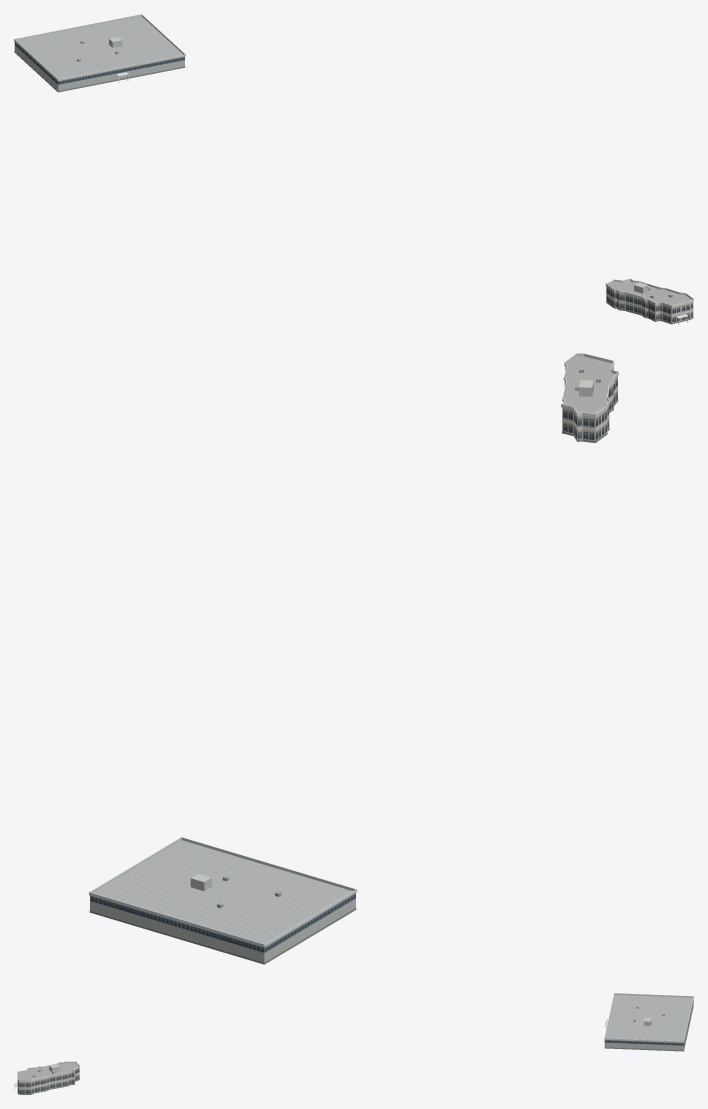
3 renders of one model, top to bottom at view 1: azimuth 30°, elevation 25°; view 2: azimuth 150°, elevation 25°; view 3: azimuth 270°, elevation 25°, orthographic. The views are drawn at different scales.
Visible parts, largest first — view 1: 1114843839, scan-096; view 2: 1114843839, scan-096; view 3: 1114843839, scan-096.
Part boxes in pixels (x1,y1,x2,y2): 1114843839: [14, 14, 185, 92]; scan-096: [605, 278, 693, 324]; 1114843839: [89, 837, 357, 964]; scan-096: [561, 353, 618, 442]; 1114843839: [604, 993, 693, 1051]; scan-096: [14, 1061, 80, 1094].
Size of the model in its own units: 129 by 11.7 by 405.
Materials: 4 (3 with a texture image).
